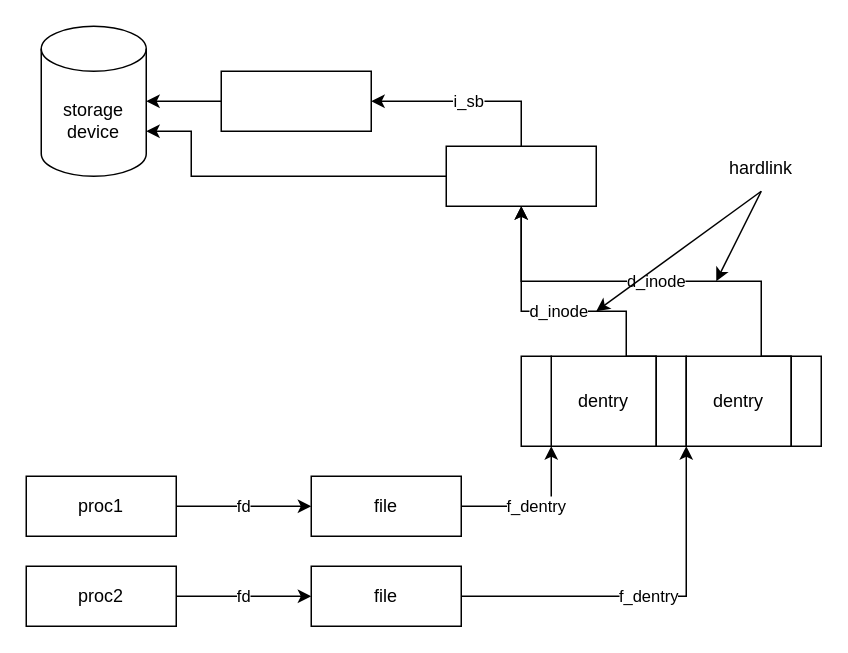
The diagram is 848 pixels wide and 653 high, and some of its shapes have lost their labels. The centre of each missing label's shape, as x and y in pixels:
"inode" belongs at point (520, 175).
"superblock" belongs at point (295, 100).
